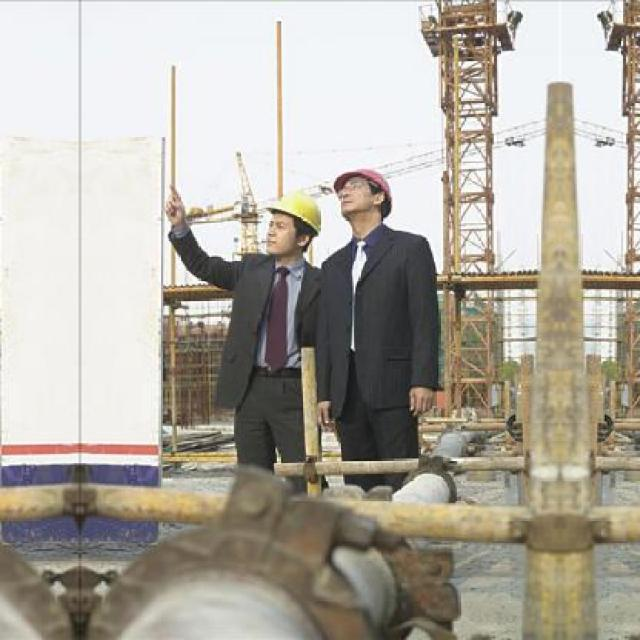helmet: (253, 176, 338, 261), (317, 154, 400, 237)
